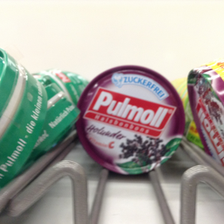candy: (73, 64, 185, 178), (186, 48, 224, 162)
